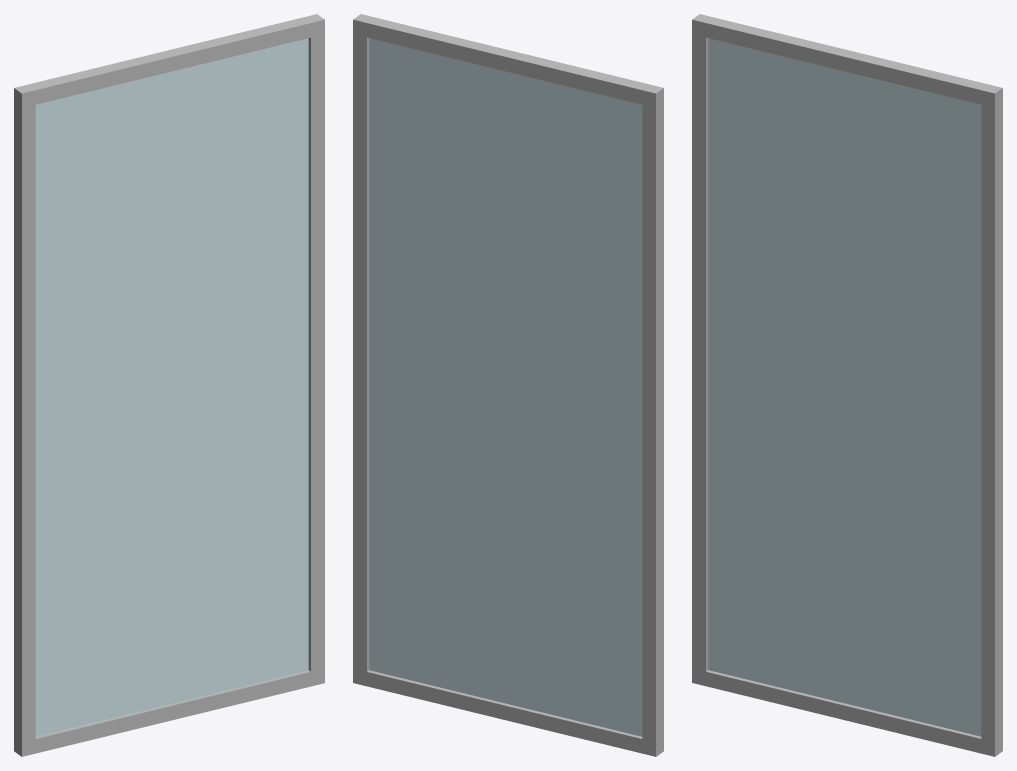
The model's file is Itr_Obj_Grandfatherclock2_Glass_Big_06.FBX.
The picture shows the model from 3 angles, left to right: view 1: azimuth 30°, elevation 25°; view 2: azimuth 150°, elevation 25°; view 3: azimuth 330°, elevation 25°; orthographic projection.
Parts seen in each view (by area): view 1: Itr_Obj_Grandfatherclock2_Glass_Big_06; view 2: Itr_Obj_Grandfatherclock2_Glass_Big_06; view 3: Itr_Obj_Grandfatherclock2_Glass_Big_06.
Part boxes in pixels (x1,y1,x2,y2): Itr_Obj_Grandfatherclock2_Glass_Big_06: (14,14,324,756); Itr_Obj_Grandfatherclock2_Glass_Big_06: (353,14,663,756); Itr_Obj_Grandfatherclock2_Glass_Big_06: (692,14,1002,756).
Size of the model in its own units: 15.68 by 32.8 by 0.694.
